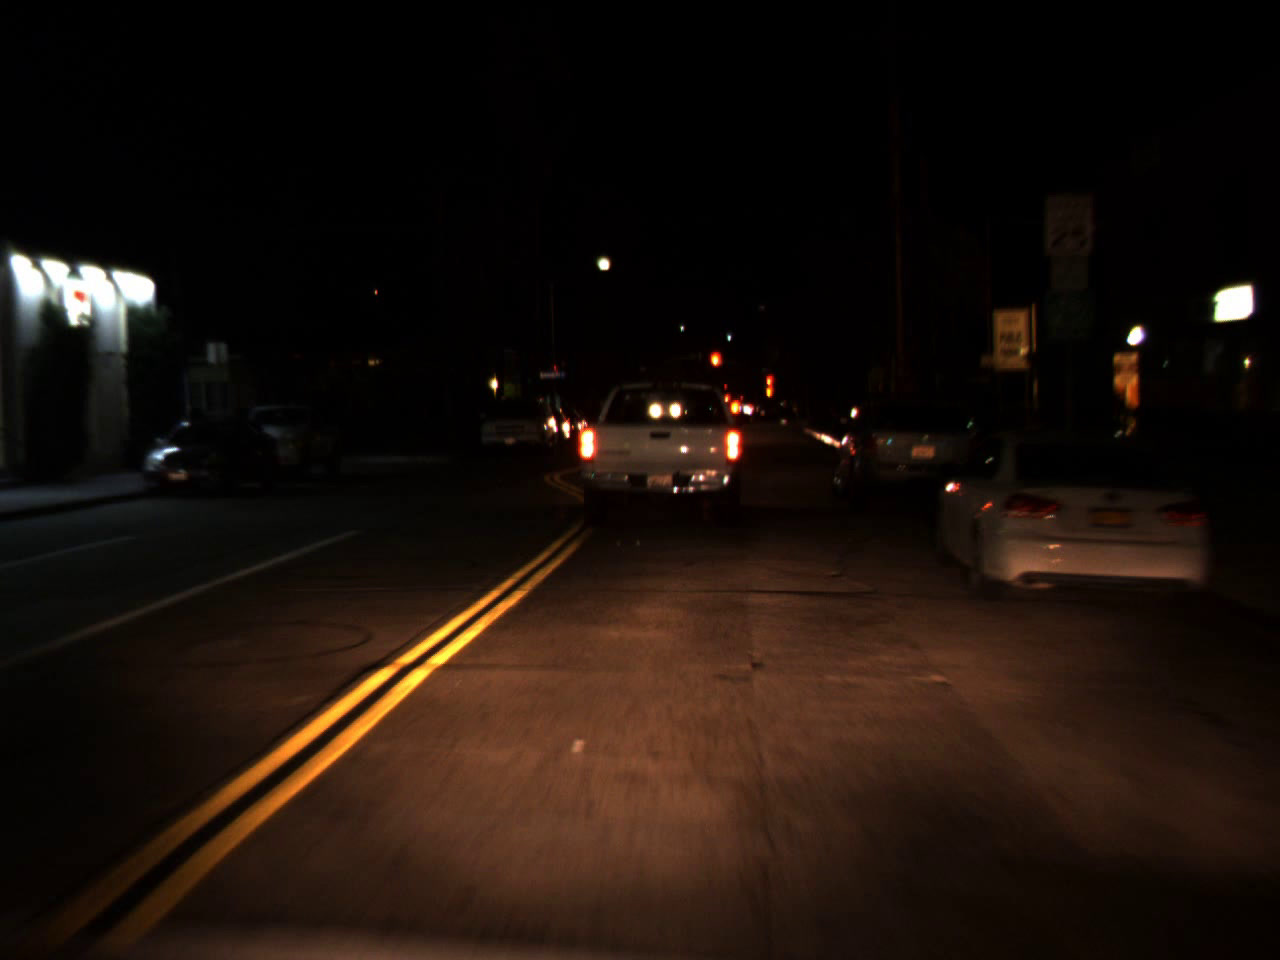stop: (708, 348, 721, 385), (764, 371, 776, 398)
